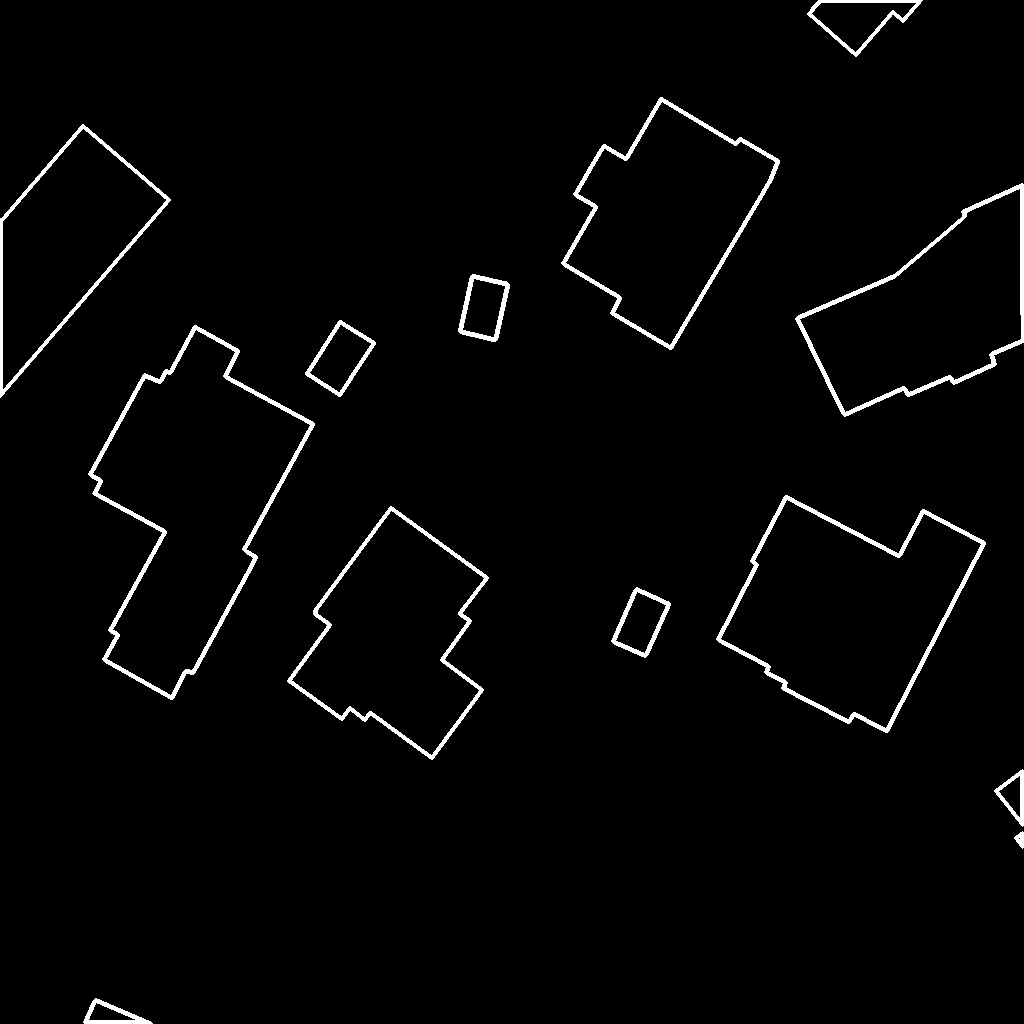building: (90, 327, 314, 699), (718, 497, 985, 732), (563, 99, 779, 349), (797, 185, 1024, 416), (289, 508, 488, 759), (0, 126, 170, 397), (809, 0, 922, 56), (307, 322, 375, 396), (613, 589, 670, 657), (460, 276, 509, 341), (996, 771, 1024, 848), (85, 1000, 152, 1024)
